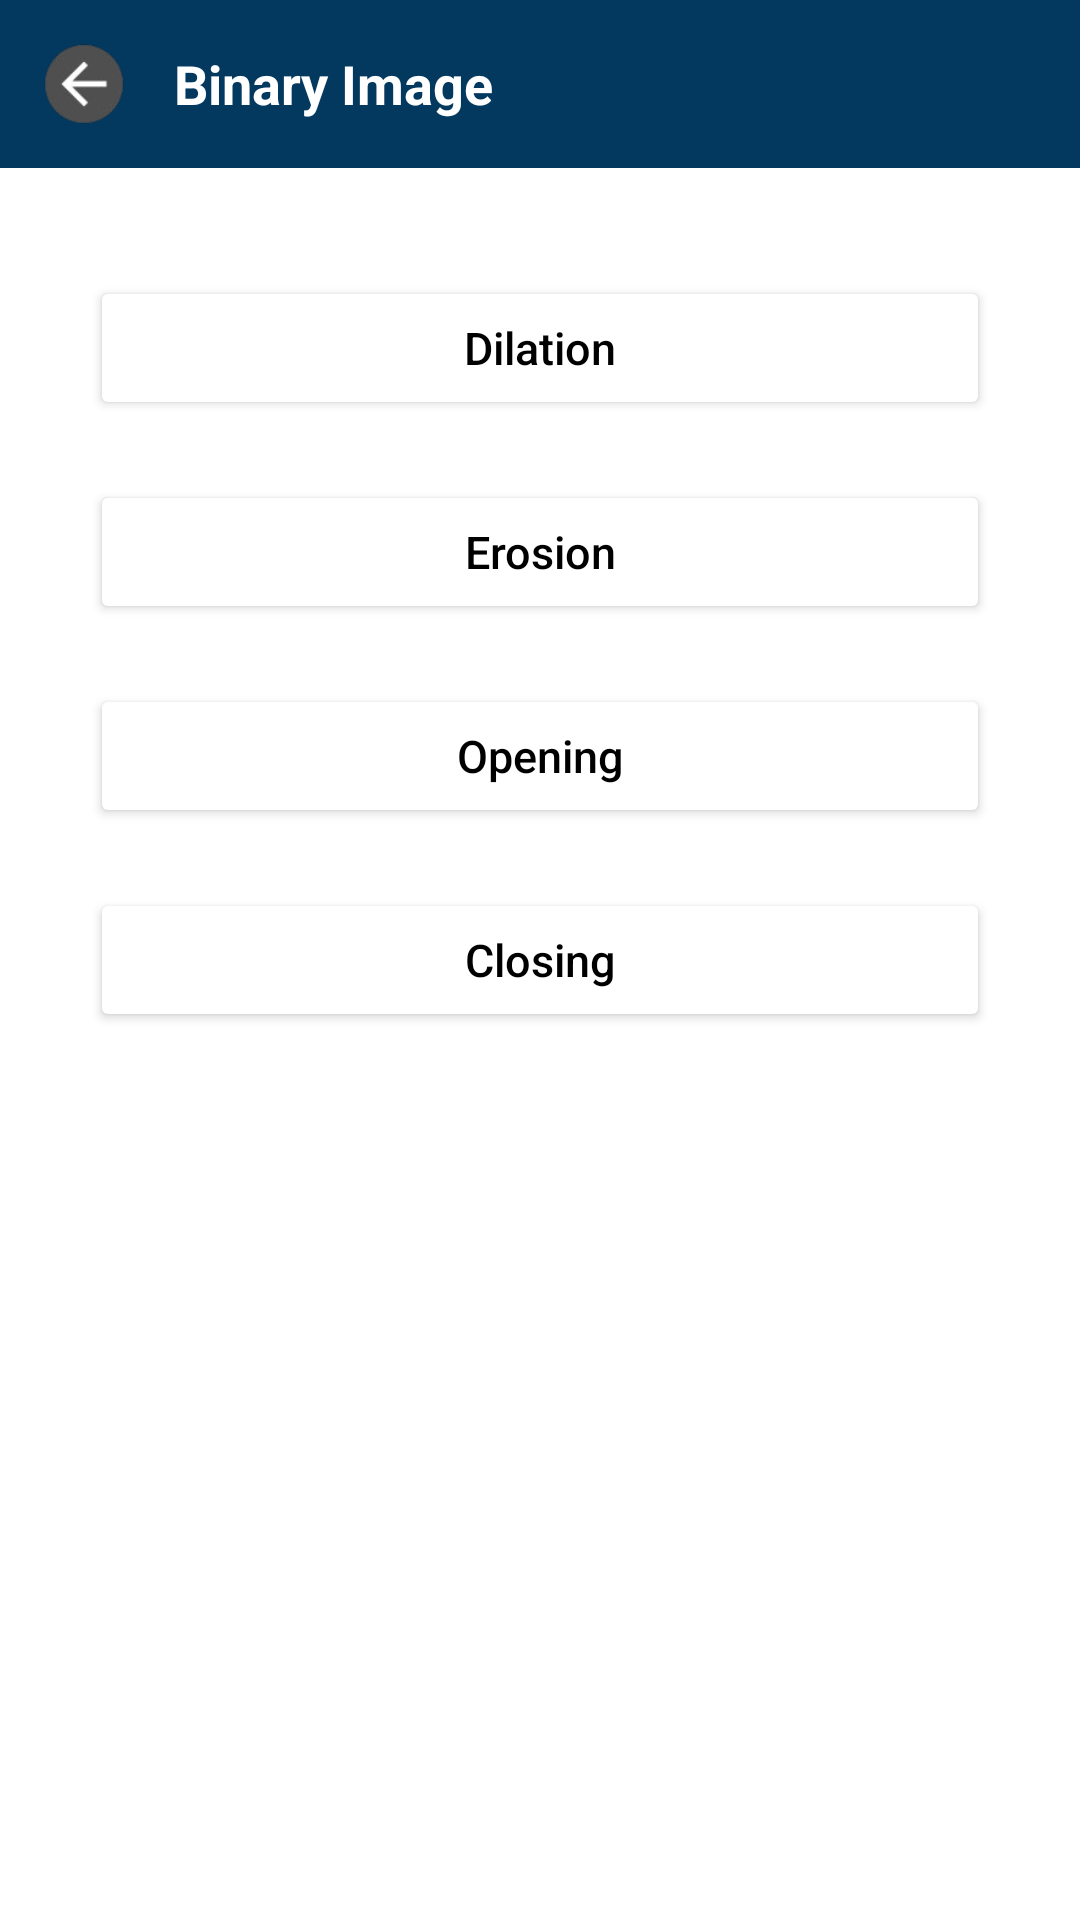

Icon click points for this 1080x1920 phone screenshot, format (x=x, y=y):
Back: (x=84, y=84)
